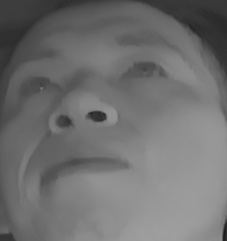eye: (119, 54, 172, 87), (14, 69, 59, 101)
mouth: (36, 144, 134, 193)
